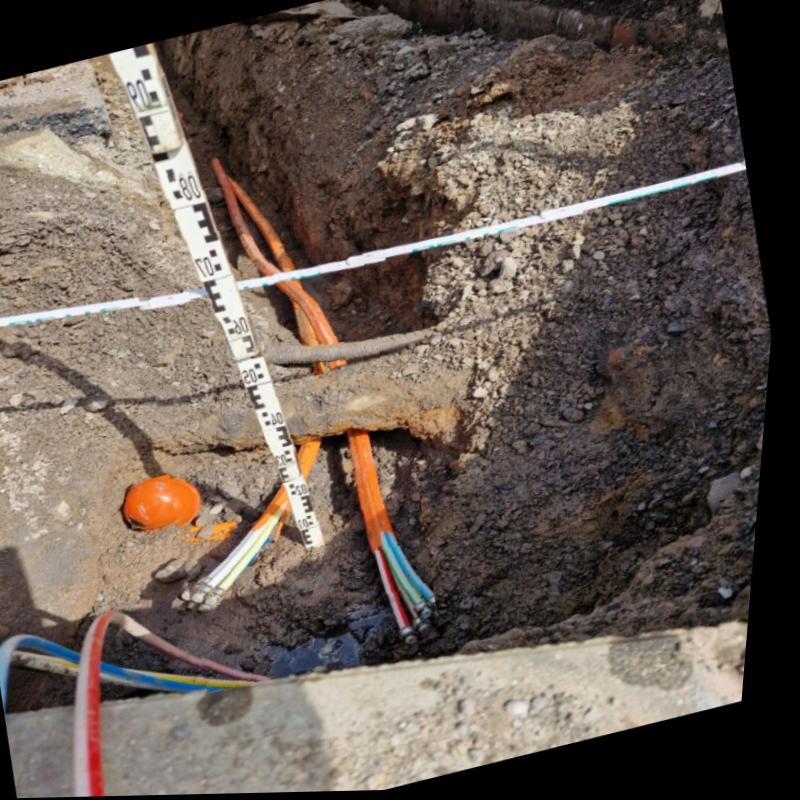Kugelmarker: (135, 475, 203, 526)
Orang-Speednetrohrchen: (198, 162, 450, 646)
